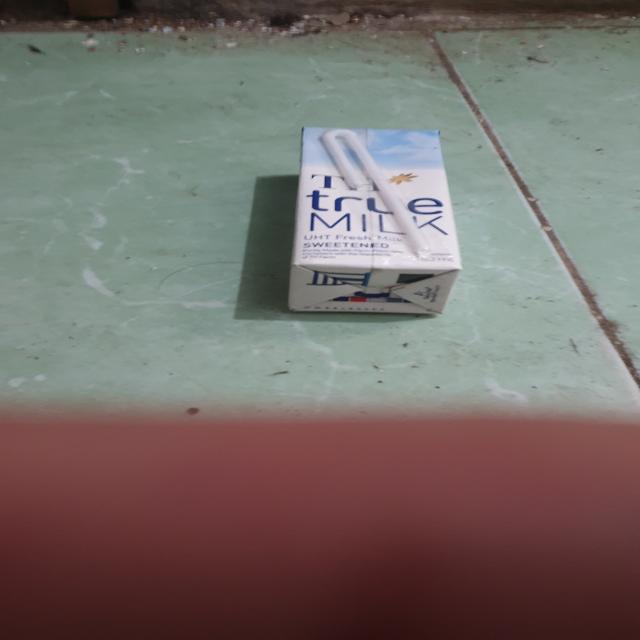TH: (292, 129, 460, 316)
